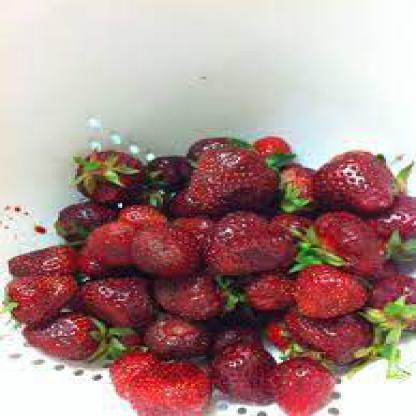strawberry_rotten: (13, 140, 408, 356)
